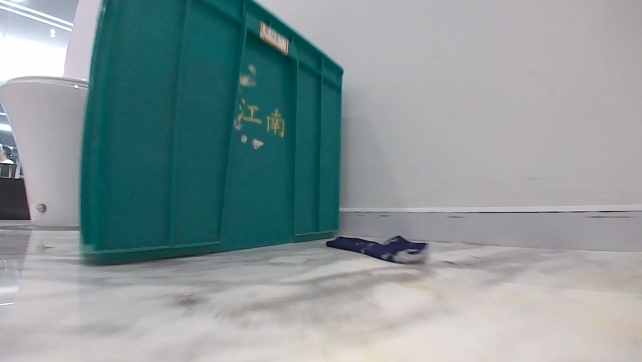socks: (323, 231, 430, 264)
toilet: (1, 75, 88, 230)
